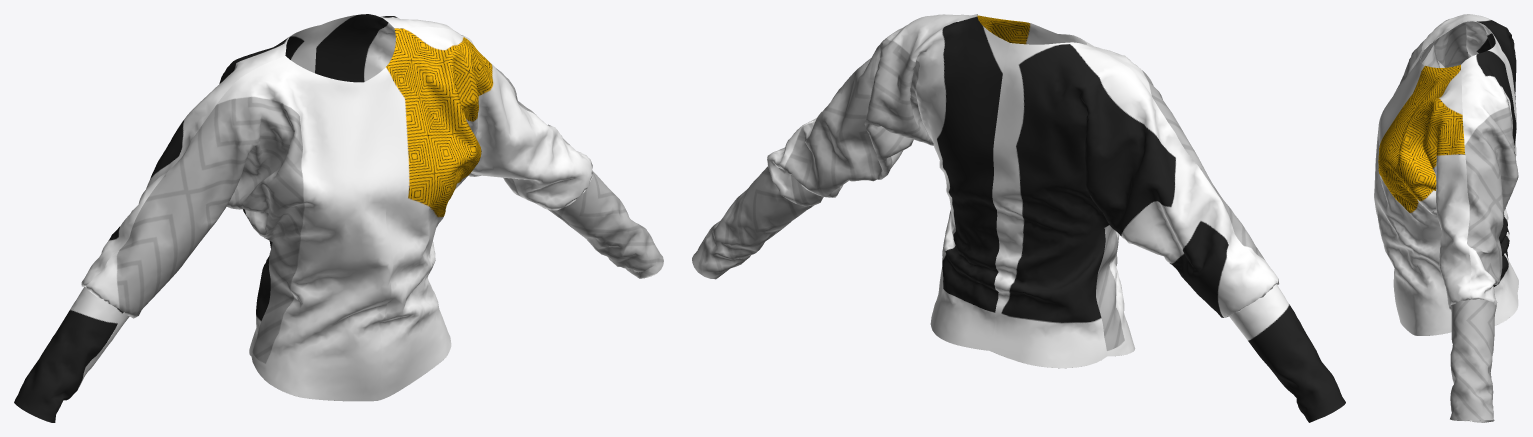
The model's file is 3Angle.fbx.
The picture shows the model from 3 angles, left to right: view 1: azimuth 30°, elevation 25°; view 2: azimuth 150°, elevation 25°; view 3: azimuth 270°, elevation 25°; orthographic projection. The views are drawn at different scales.
Visible parts, largest first — view 1: 3Angle; view 2: 3Angle; view 3: 3Angle.
Boxes of the visible parts, x1,y1,x2,y2 form: 3Angle: (14, 14, 663, 422); 3Angle: (692, 14, 1345, 422); 3Angle: (1374, 14, 1518, 422).
Size of the model in its own units: 107 by 54.37 by 25.27.
